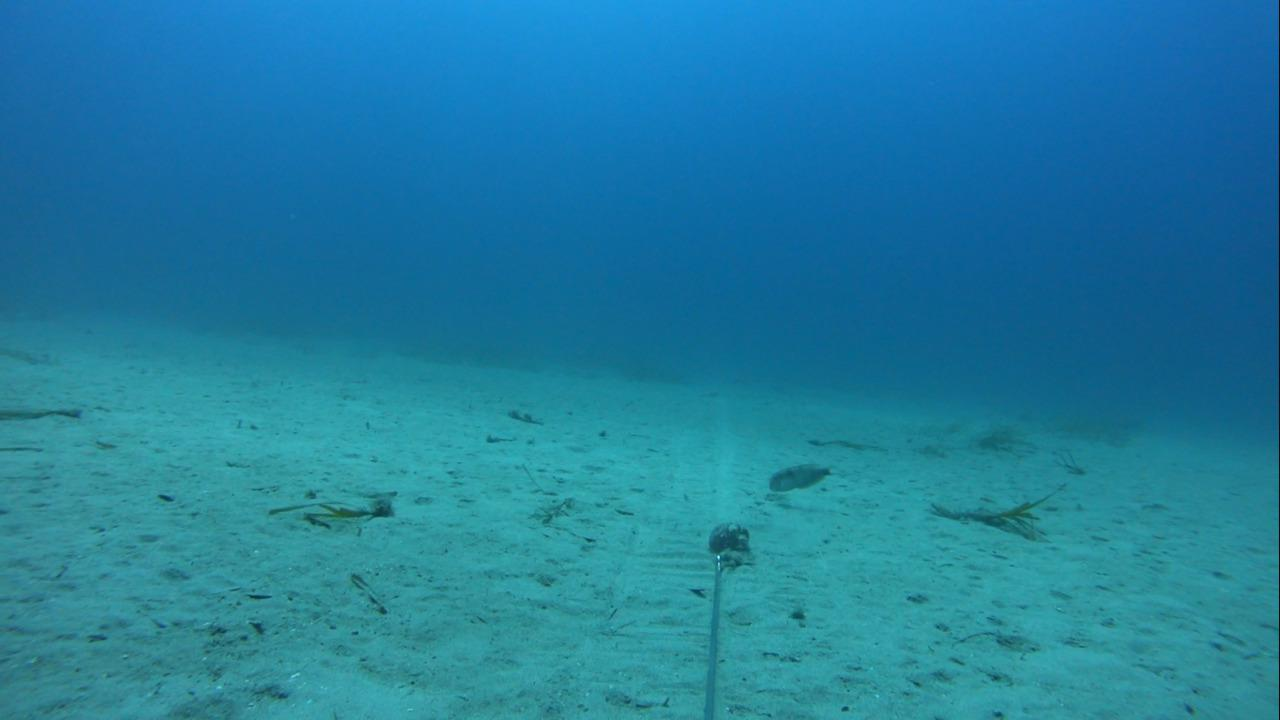raor: (764, 460, 832, 492)
